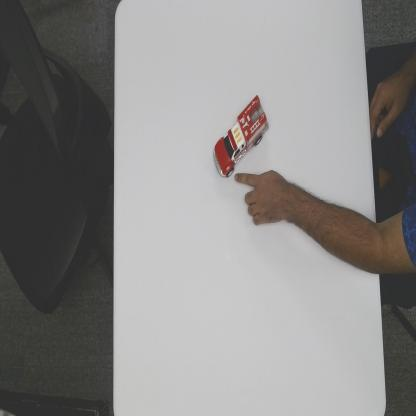Arm: (293, 176, 416, 281)
Firetruck: (212, 87, 269, 183)
Hand: (235, 164, 292, 232)
